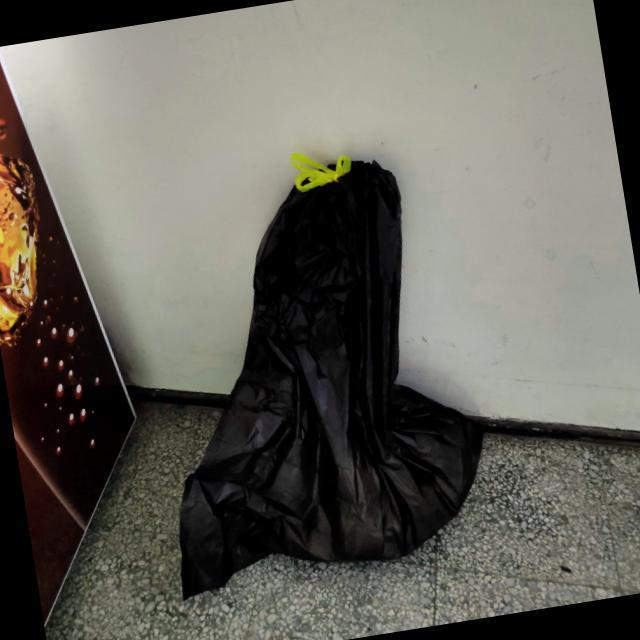garbage: (81, 103, 523, 634)
